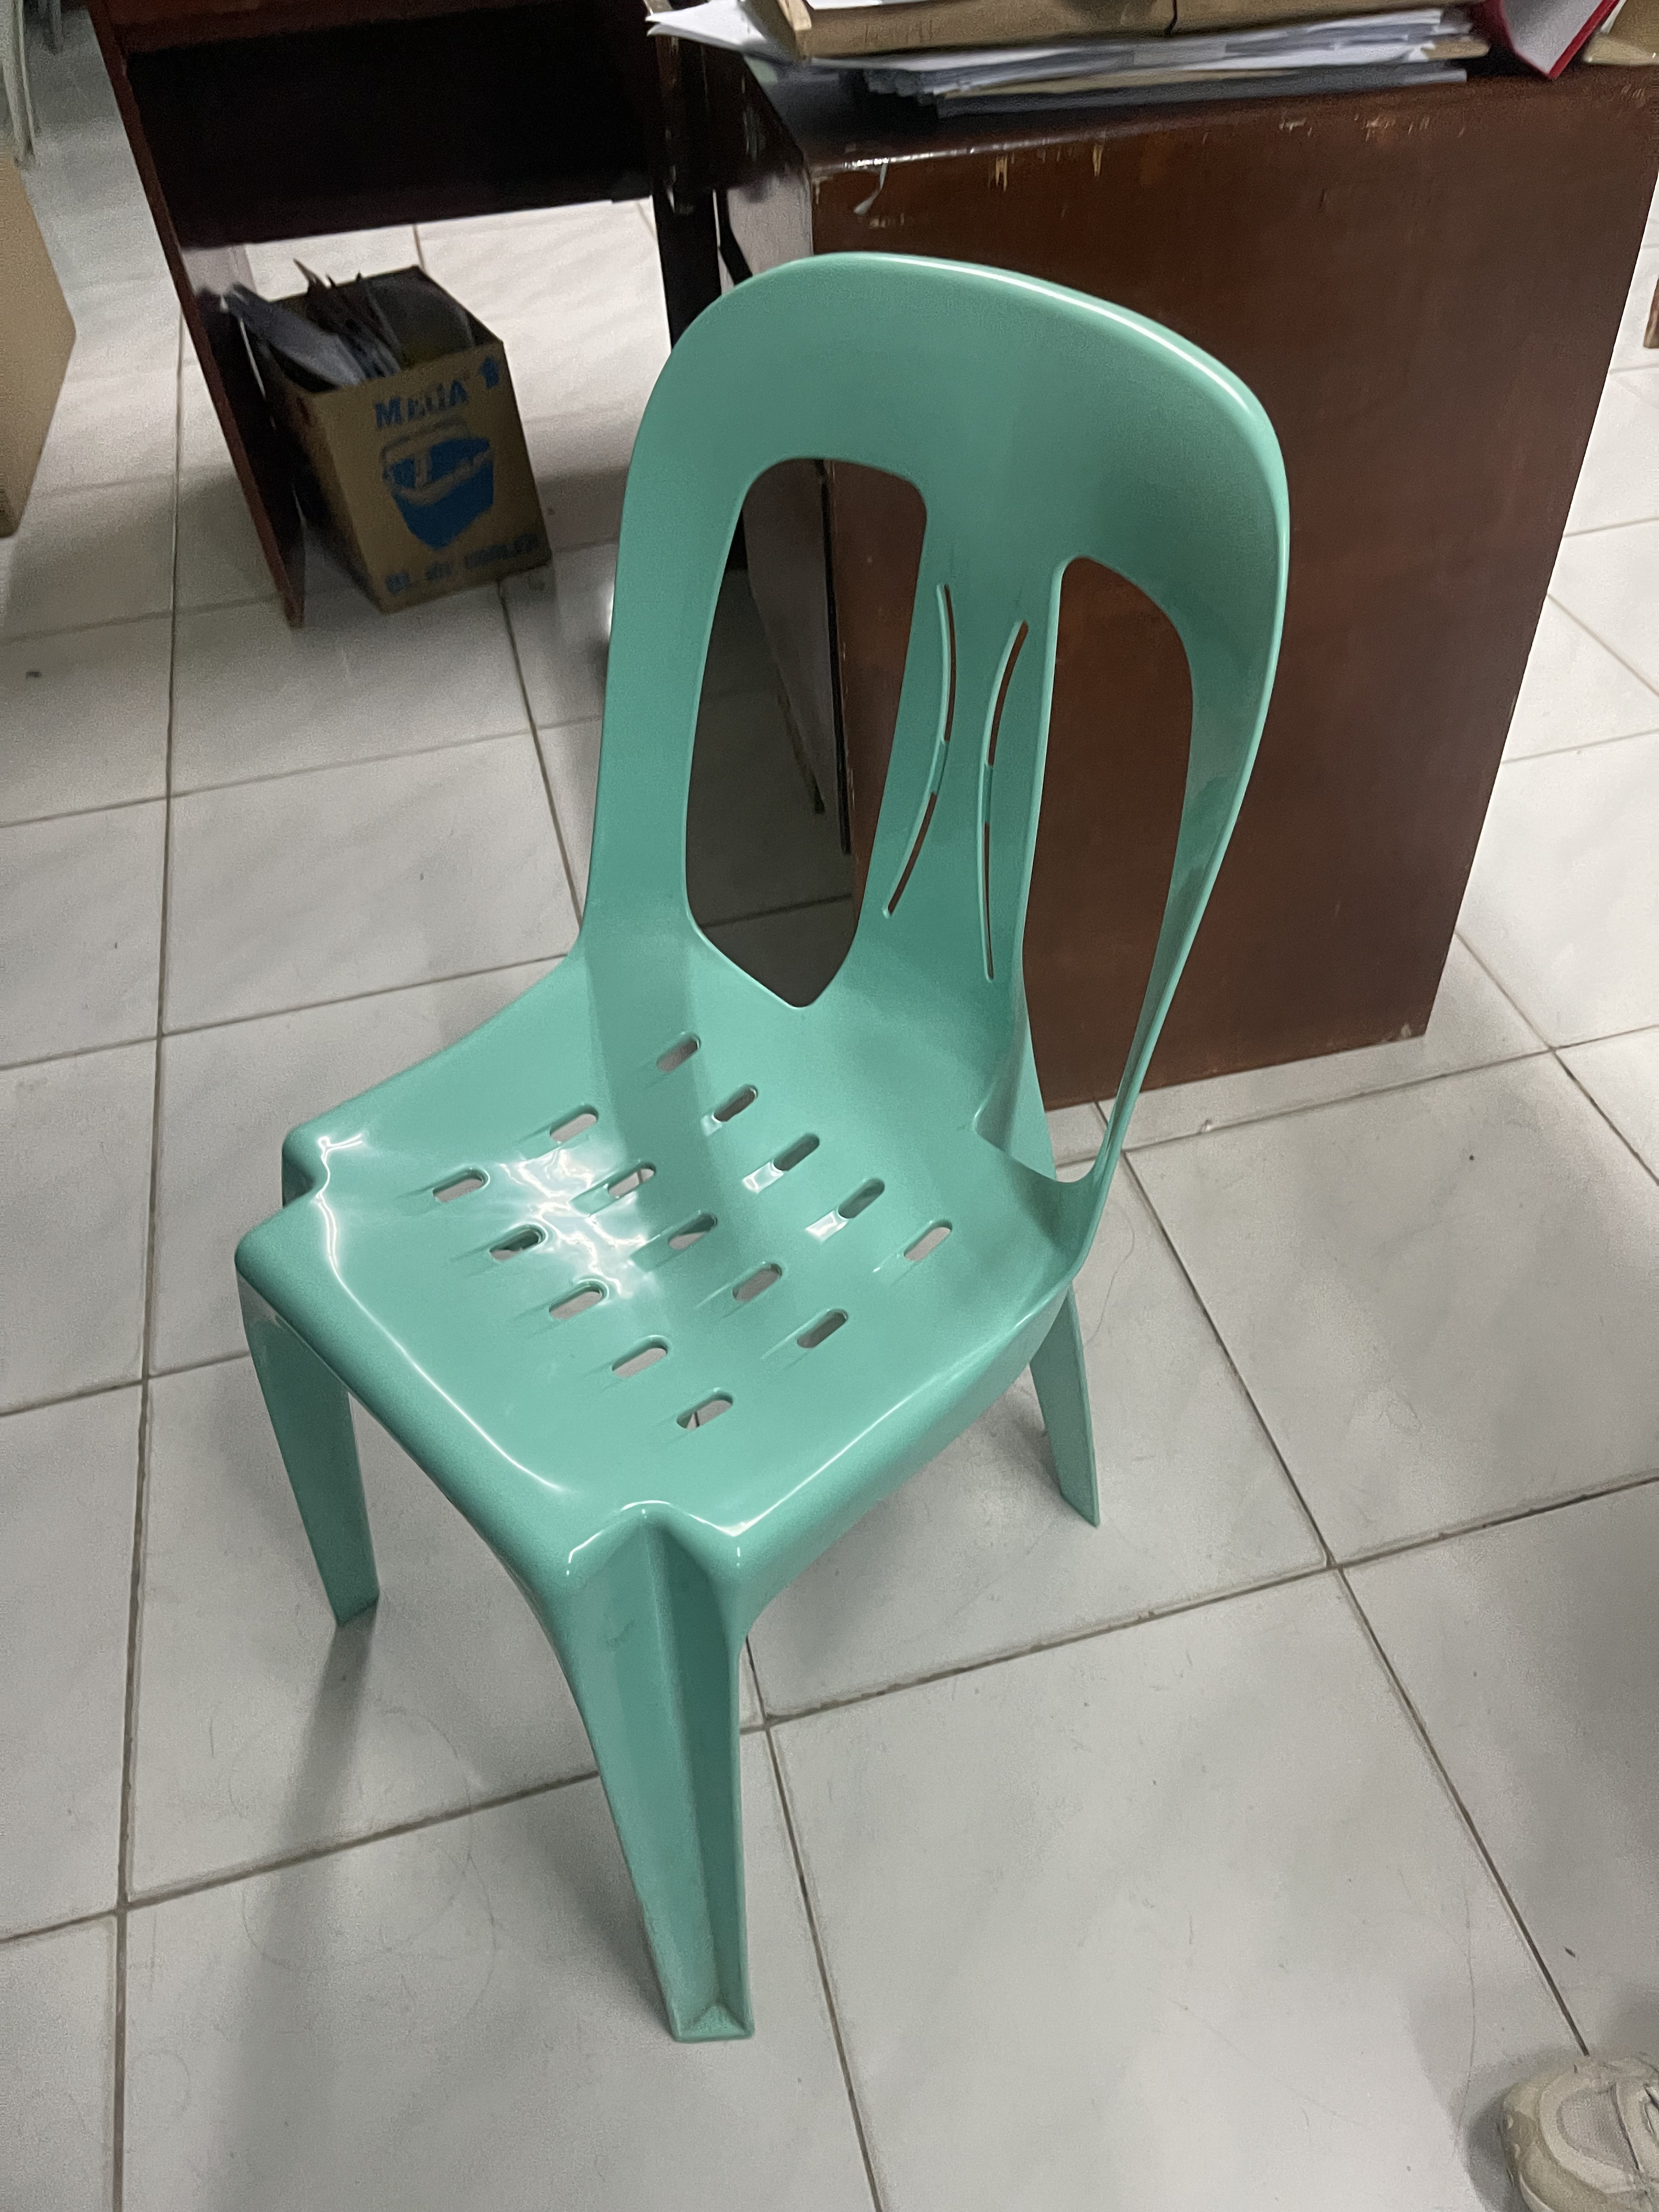chair2: (223, 244, 1302, 2050)
